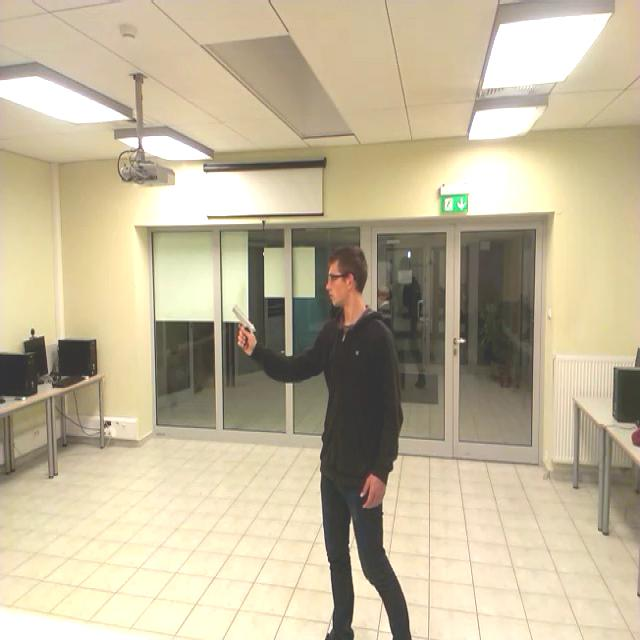handgun: (230, 300, 258, 358)
